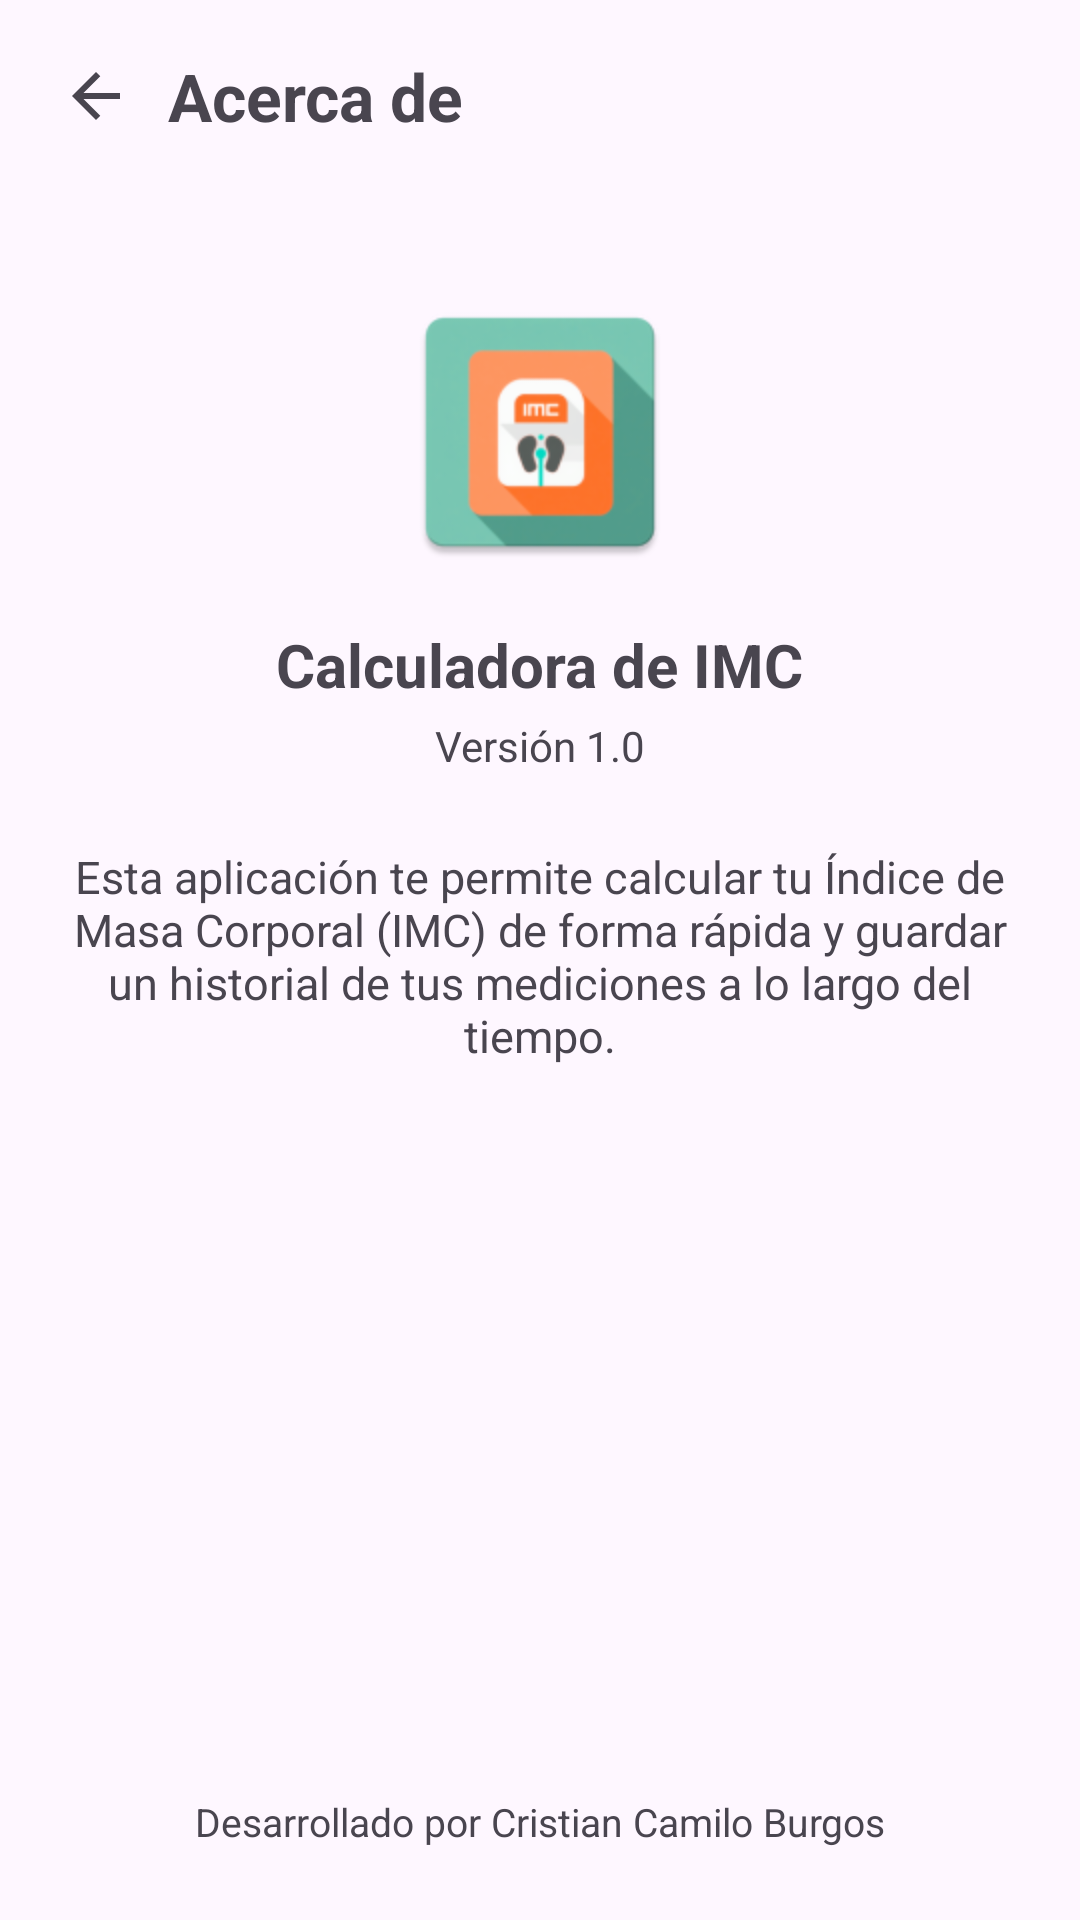

Icon bounding boxes for this 1080w x 1920h phone screenshot, format (x1, y1, x2, y2):
Regresar: (72, 72, 120, 120)
